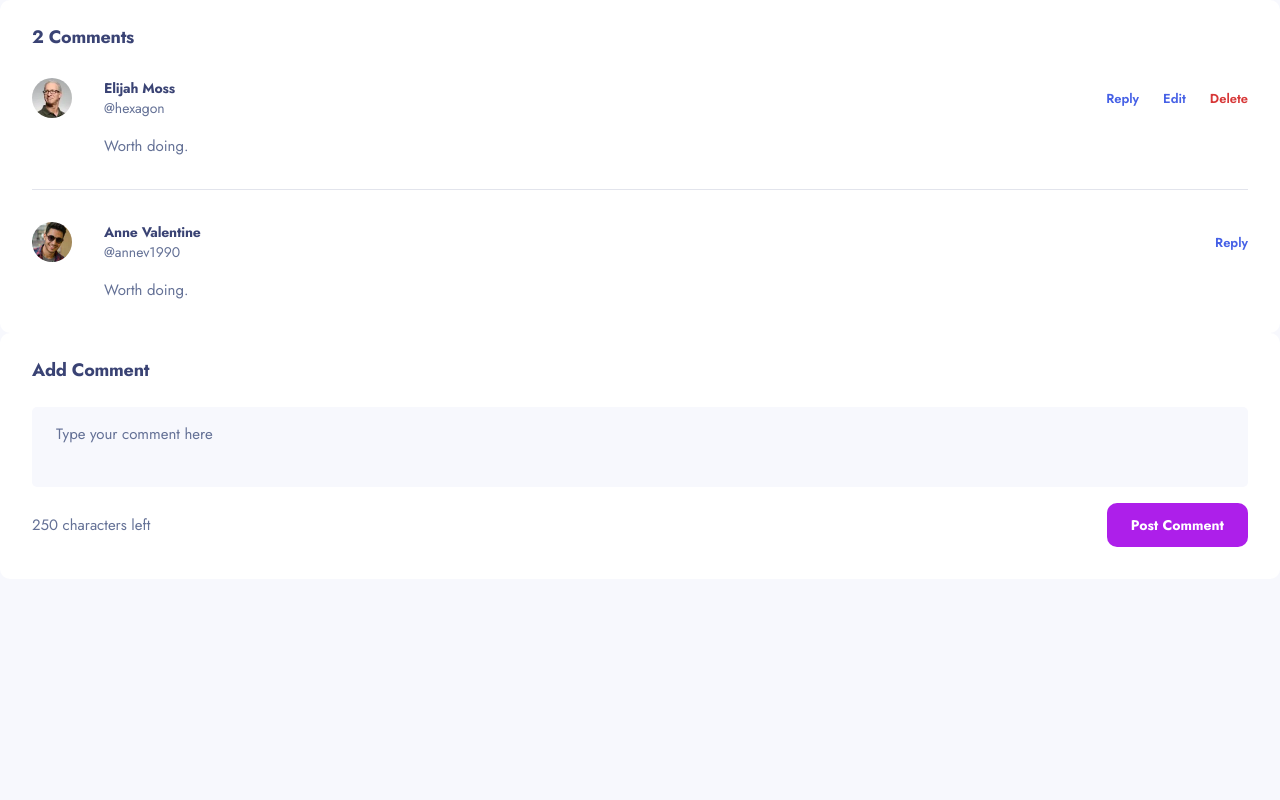
CommentList › opens a reply form only for the comment whose button was pressed
Click the button "Reply" in the row of "Elijah Moss" at (1123, 98), box [1106,88,1139,108]
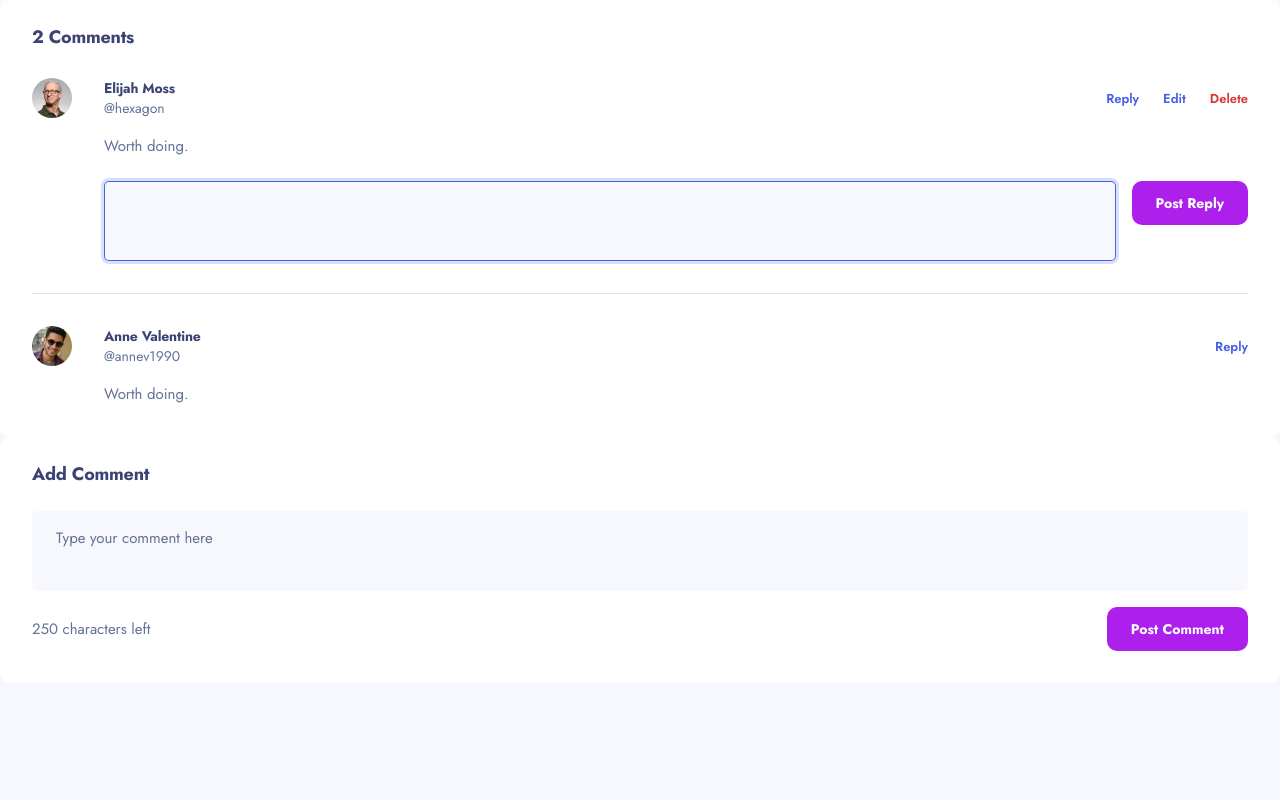
Expected: the number of text boxes named "reply to" is 1, [104,181,1116,261]
